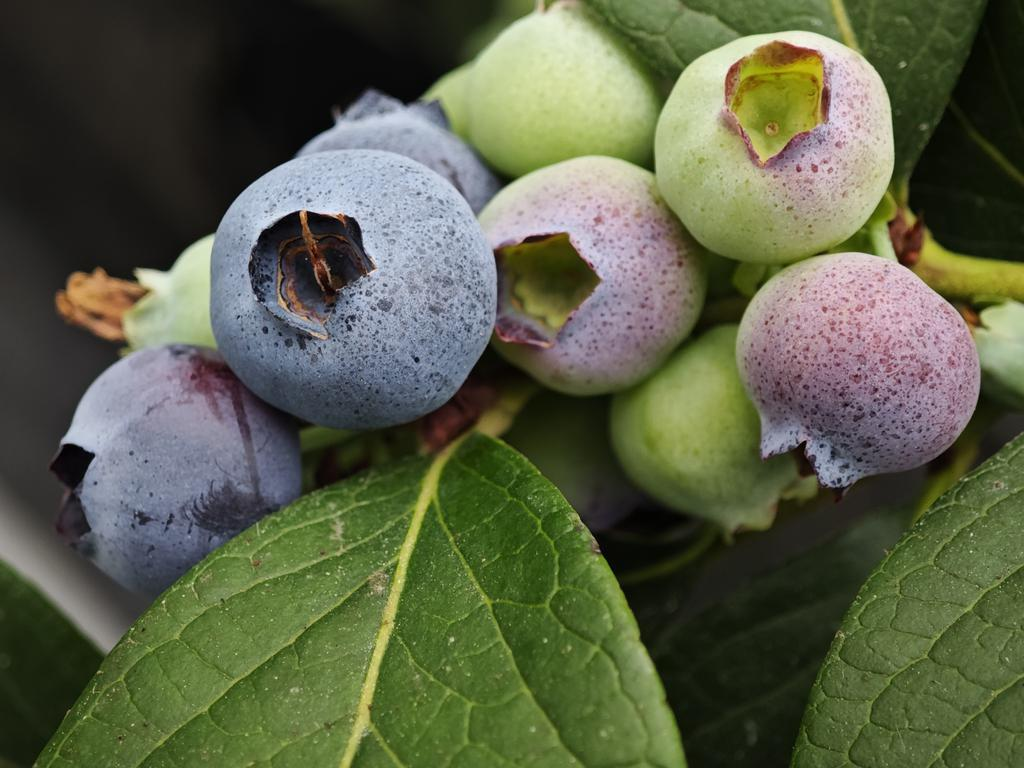RipeBlueBerry: (203, 144, 501, 436)
Semi-RipeBlueBerry: (734, 249, 982, 498)
UnripeBlueBerry: (654, 24, 901, 263)
